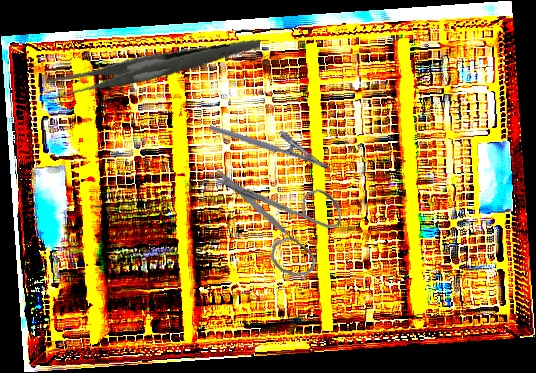Dressing Forceps: (44, 17, 261, 122)
Iris Scissors: (208, 156, 346, 283)
Needle Holder: (208, 108, 336, 171)
